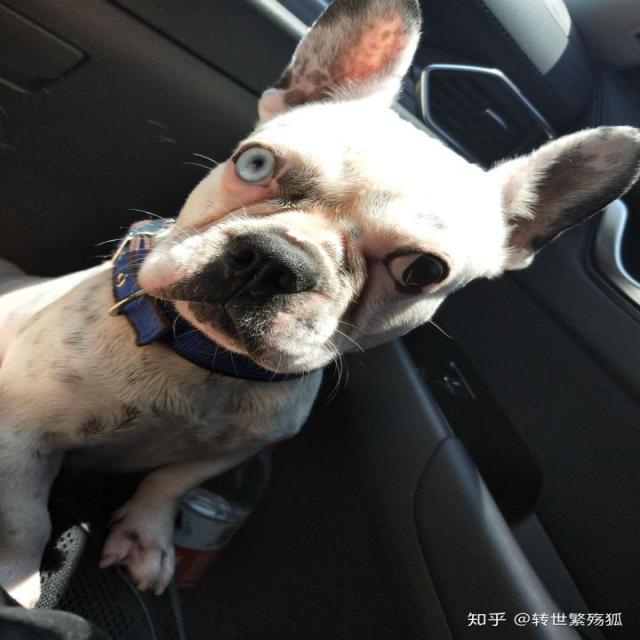eye: (378, 240, 453, 300), (227, 137, 290, 189)
